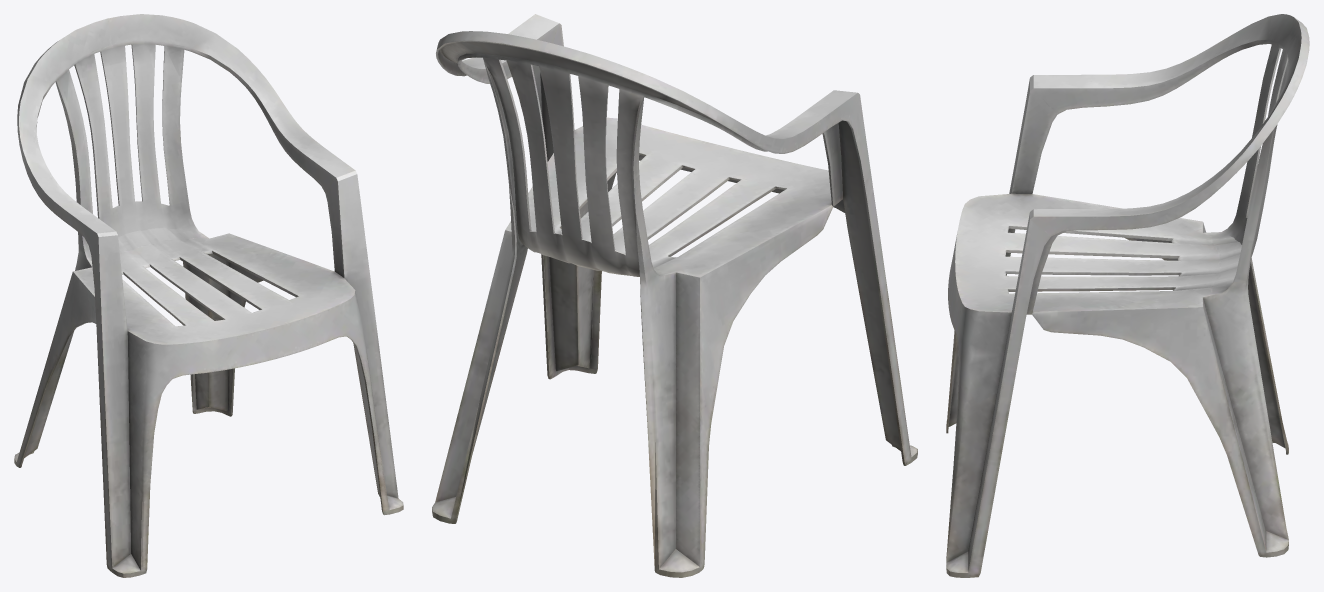
Rendered from chair_monobloc.glb.
3 renders of one model, left to right at view 1: azimuth 30°, elevation 25°; view 2: azimuth 150°, elevation 25°; view 3: azimuth 270°, elevation 25°, orthographic. The views are drawn at different scales.
Visible parts, largest first — view 1: chair_monobloc; view 2: chair_monobloc; view 3: chair_monobloc.
Part boxes in pixels (bbox=[...]): chair_monobloc: bbox=[14, 14, 403, 577]; chair_monobloc: bbox=[432, 14, 917, 577]; chair_monobloc: bbox=[946, 14, 1309, 577].
Bounding box in the file's own units: 0.6419 × 0.8798 × 0.6276.
Materials: 1 (1 with a texture image).
